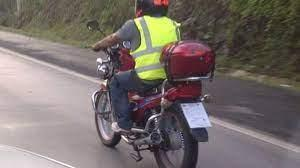Vest: (132, 16, 181, 79)
